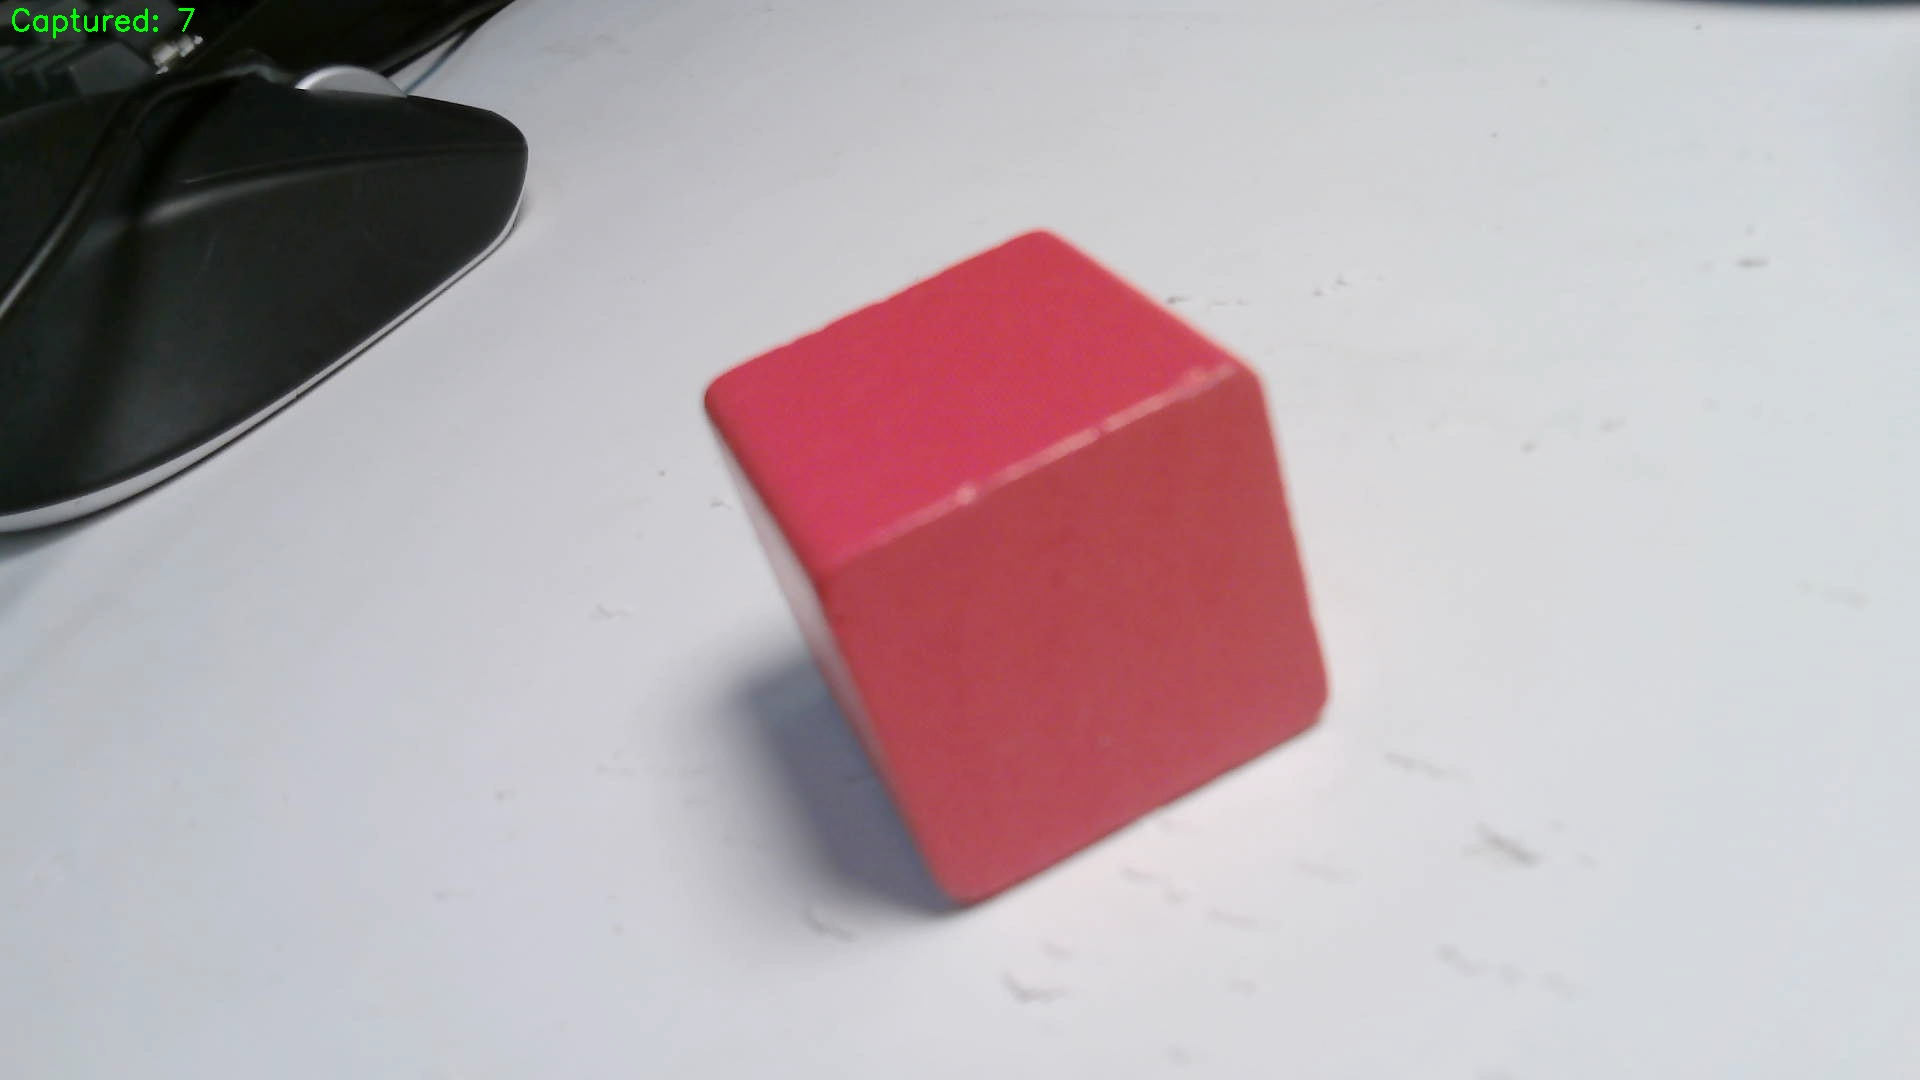red: (702, 233, 1332, 909)
